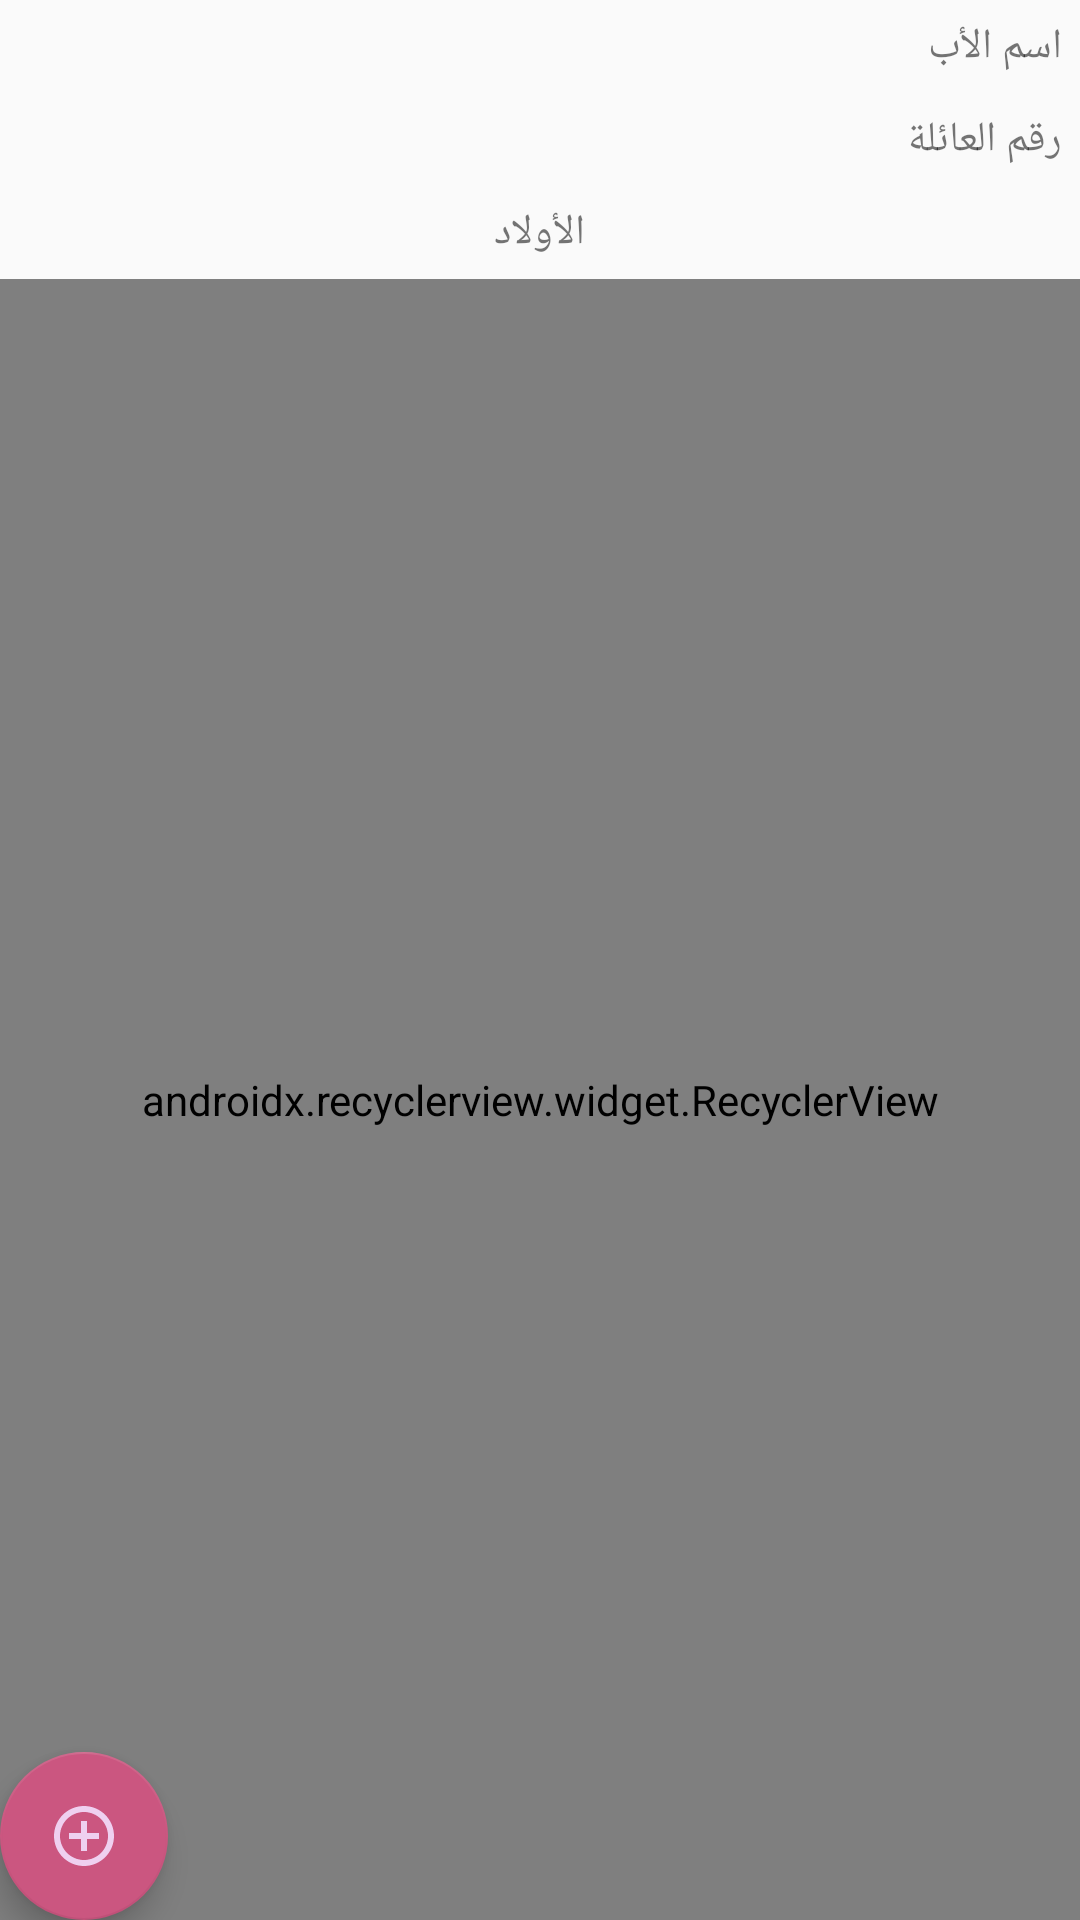

Screen size 1080*1920. Icon name, then its box in pixels as {"left": x1, "top": y1, "right": x2, "bottom": y2}:
add: {"left": 0, "top": 1752, "right": 168, "bottom": 1920}
